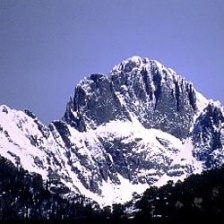neutral: (3, 3, 220, 224)
